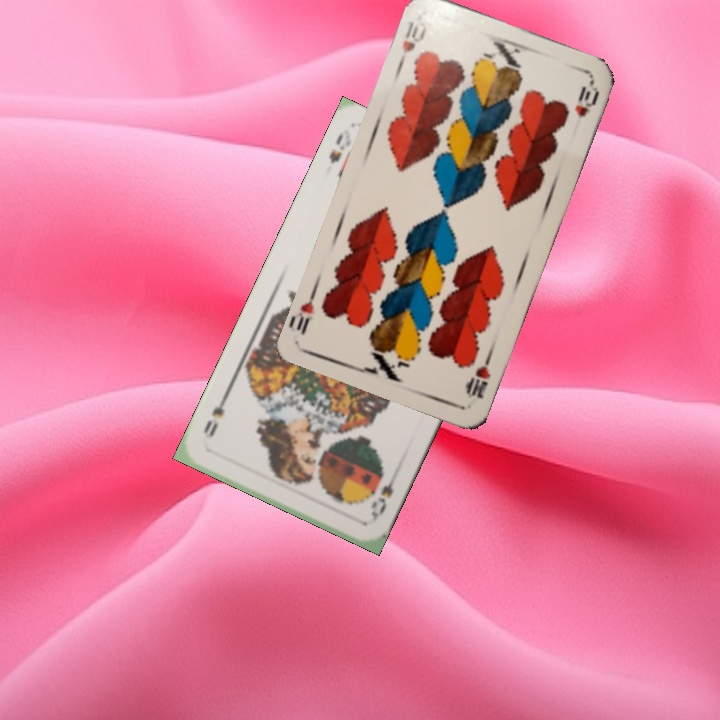H10: (394, 17, 430, 69), (462, 350, 494, 402)
SO: (366, 469, 400, 524), (325, 125, 354, 167)
